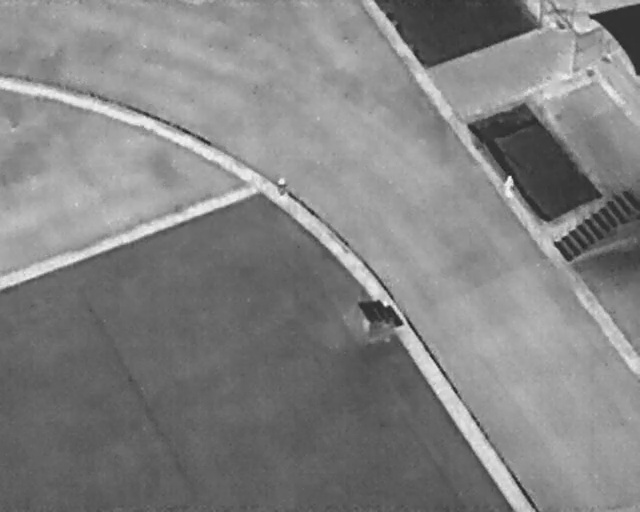Person: (503, 174, 517, 198), (277, 176, 288, 200)
